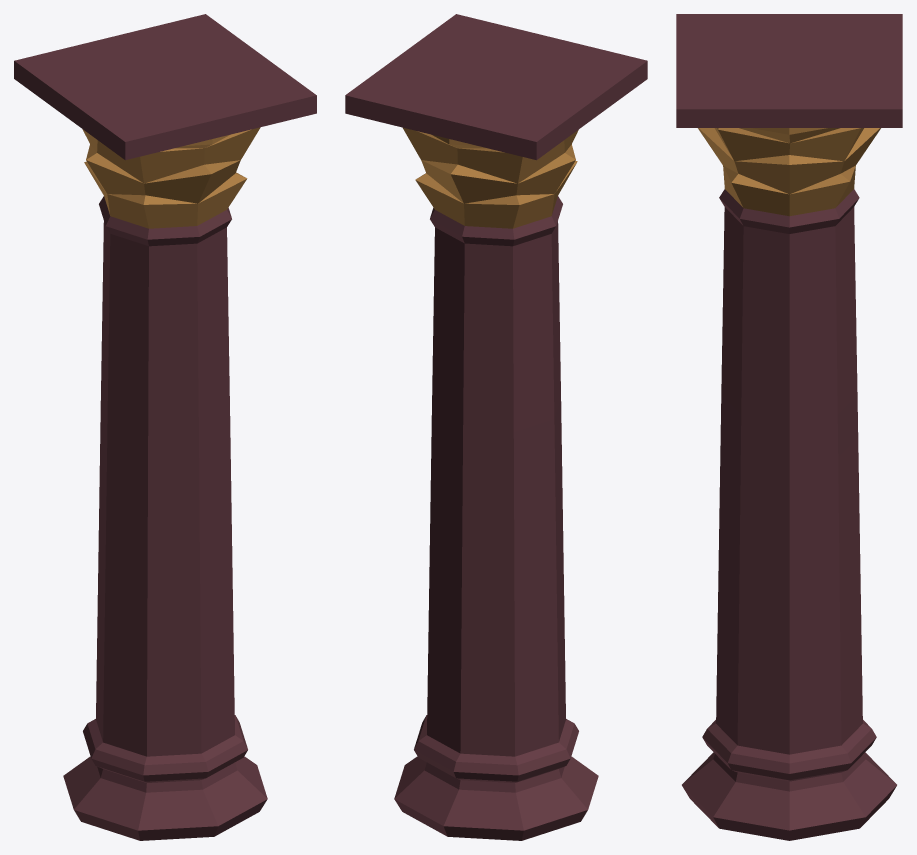
File: SM_Pillar_Corinthian_Small_Color_Empire.fbx
3 renders of one model, left to right at view 1: azimuth 30°, elevation 25°; view 2: azimuth 150°, elevation 25°; view 3: azimuth 270°, elevation 25°, orthographic.
Parts seen in each view (by area): view 1: SM_Pillar_Corinthian_Small_Color_Empire; view 2: SM_Pillar_Corinthian_Small_Color_Empire; view 3: SM_Pillar_Corinthian_Small_Color_Empire.
Part boxes in pixels (box(x1,y1,x2,y2)): SM_Pillar_Corinthian_Small_Color_Empire: box(14, 14, 316, 840); SM_Pillar_Corinthian_Small_Color_Empire: box(345, 14, 647, 840); SM_Pillar_Corinthian_Small_Color_Empire: box(676, 14, 902, 840).
Size of the model in its own units: 0.8316 by 3 by 0.8355.
